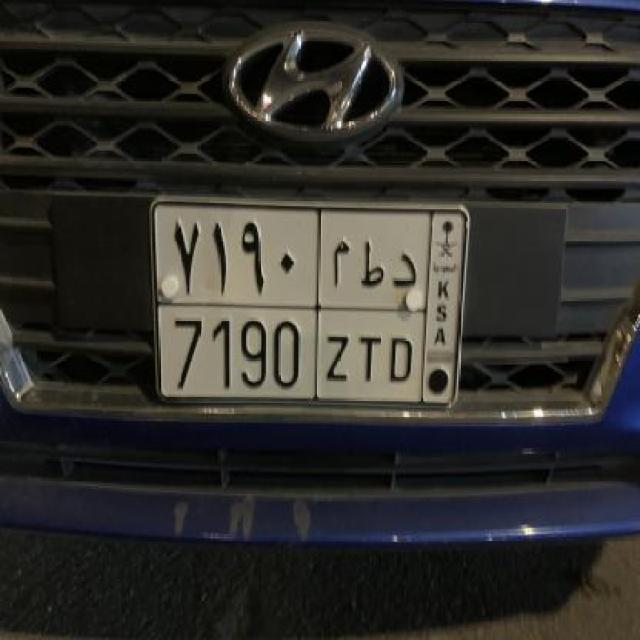license_plate: (148, 194, 470, 414)
